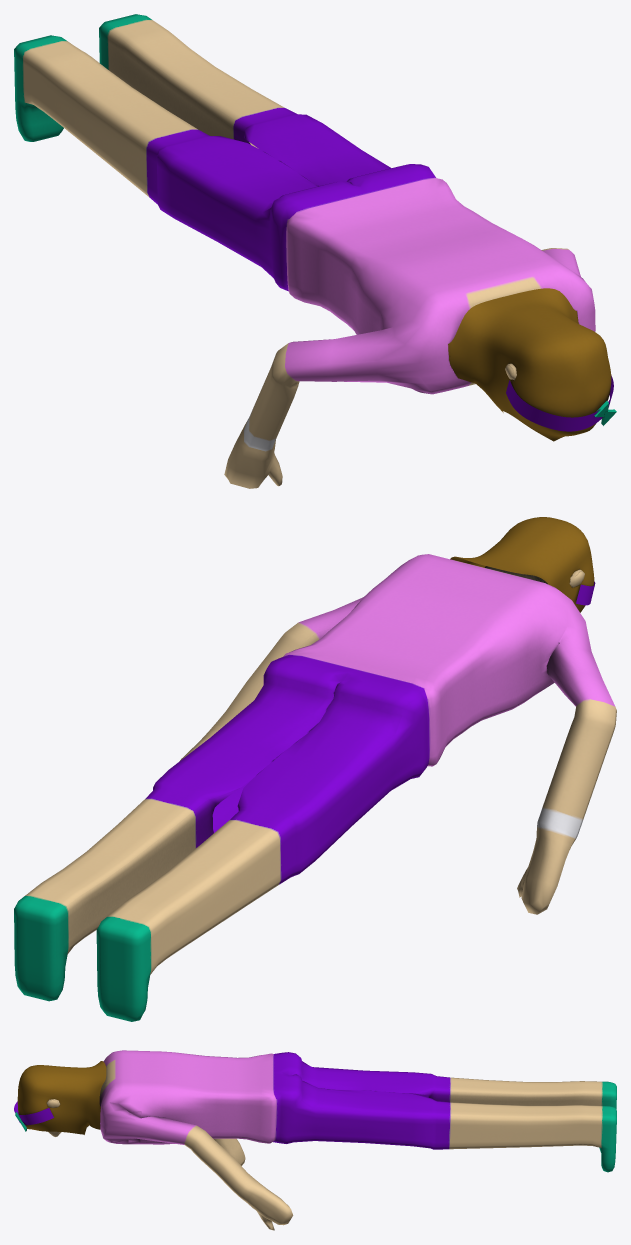
Rendered from sister.obj.
3 renders of one model, top to bottom at view 1: azimuth 30°, elevation 25°; view 2: azimuth 150°, elevation 25°; view 3: azimuth 270°, elevation 25°, orthographic. The views are drawn at different scales.
Parts seen in each view (by area): view 1: sister; view 2: sister; view 3: sister.
Boxes of the visible parts, bbox=[...] form: sister: bbox=[14, 14, 616, 488]; sister: bbox=[14, 517, 616, 1021]; sister: bbox=[14, 1050, 616, 1230].
Size of the model in its own units: 30.6 by 19.7 by 74.46.
1 material, 1 textured.
